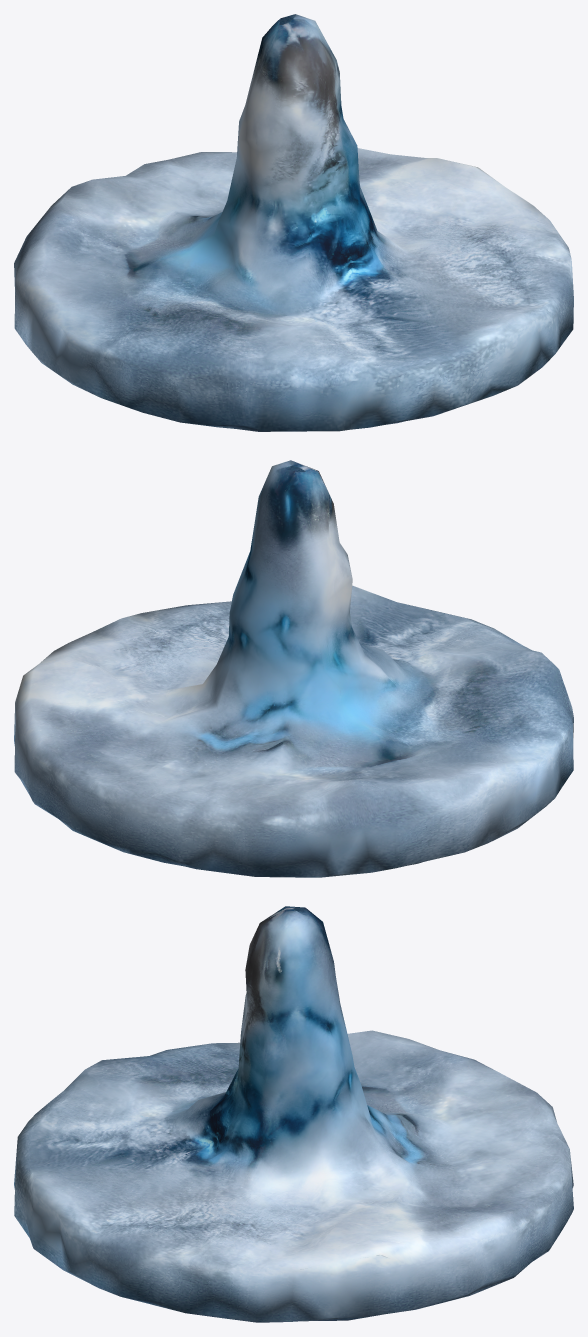
Rendered from p_ice_pillar.glb.
3 views of the same model, one above another, from view 1: azimuth 30°, elevation 25°; view 2: azimuth 150°, elevation 25°; view 3: azimuth 270°, elevation 25° (orthographic).
Parts seen in each view (by area): view 1: Mesh_0; view 2: Mesh_0; view 3: Mesh_0.
Boxes of the visible parts, x1,y1,x2,y2 form: Mesh_0: (14, 14, 573, 431); Mesh_0: (14, 460, 573, 877); Mesh_0: (14, 906, 573, 1322).
Size of the model in its own units: 1.91 by 1.16 by 1.92.
1 material, 1 textured.
